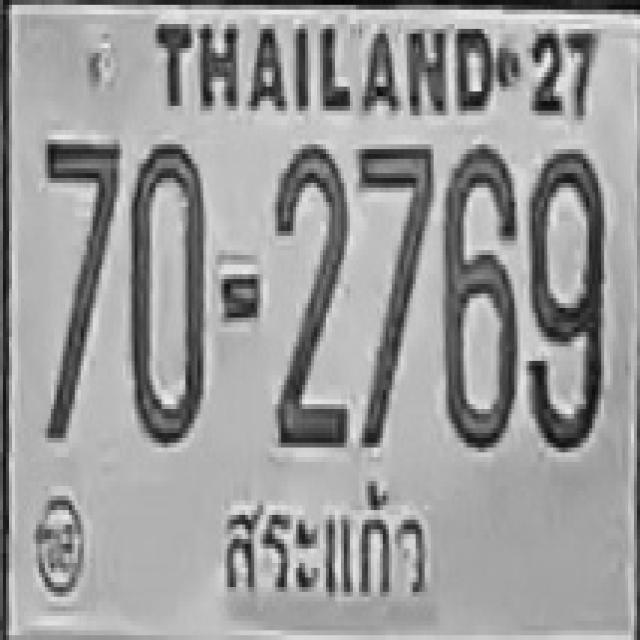0: (128, 142, 204, 445)
2: (274, 144, 348, 448)
6: (442, 144, 518, 448)
7: (42, 134, 120, 442), (356, 142, 434, 445)
9: (526, 147, 604, 450)
SaKaeo: (218, 471, 438, 617)
